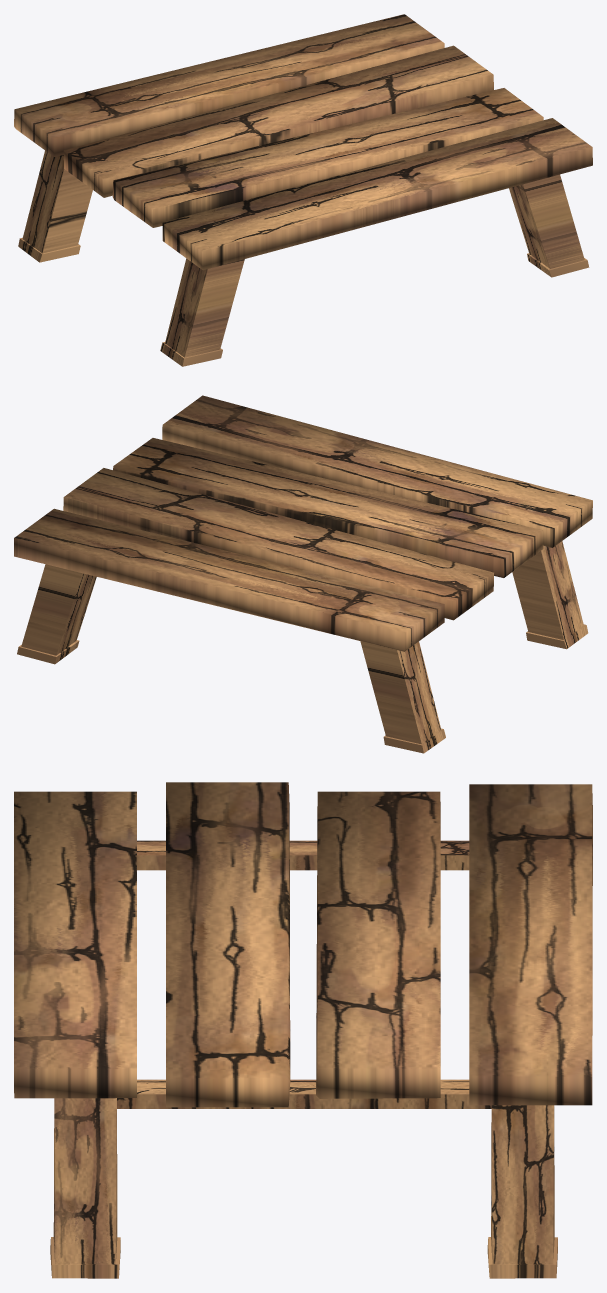
File: table.glb
3 views of the same model, one above another, from view 1: azimuth 30°, elevation 25°; view 2: azimuth 150°, elevation 25°; view 3: azimuth 270°, elevation 25° (orthographic). The views are drawn at different scales.
Parts seen in each view (by area): view 1: Table; view 2: Table; view 3: Table.
Boxes of the visible parts, x1,y1,x2,y2 form: Table: (14,14,592,366); Table: (14,395,592,753); Table: (14,782,592,1278).
Size of the model in its own units: 1.24 by 0.3836 by 0.9917.
1 material, 1 textured.
